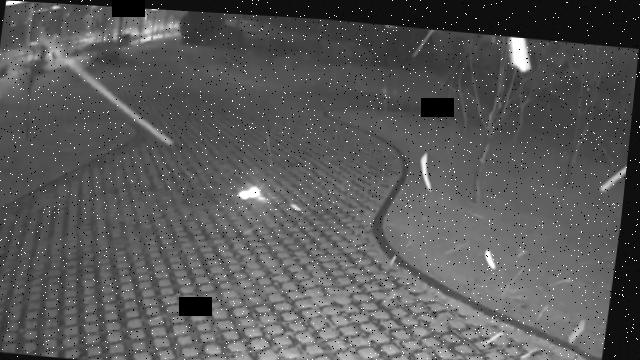fire: (242, 179, 267, 198)
